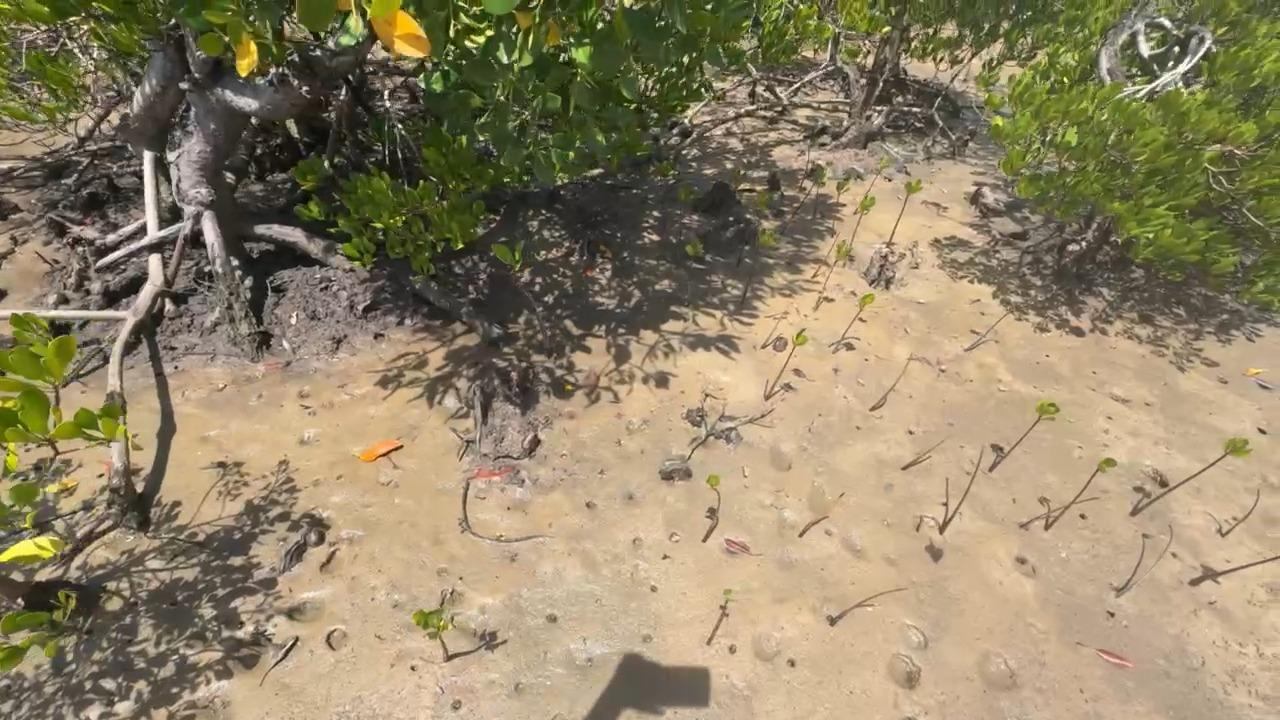Tree: (1131, 438, 1253, 518), (987, 401, 1061, 473), (1046, 457, 1118, 531), (939, 446, 982, 535), (765, 327, 808, 401), (829, 588, 909, 626), (812, 240, 854, 311), (740, 229, 778, 307), (1189, 555, 1280, 587), (885, 179, 924, 247), (832, 293, 875, 354), (869, 353, 913, 411), (1020, 497, 1101, 528), (963, 310, 1013, 352), (853, 162, 889, 216), (414, 608, 449, 663), (1222, 489, 1260, 537), (849, 196, 876, 250), (811, 232, 841, 278), (901, 440, 945, 471), (685, 238, 704, 307), (830, 180, 850, 238), (750, 193, 768, 254), (812, 168, 826, 222), (677, 184, 689, 244), (798, 516, 829, 537), (706, 474, 721, 515), (723, 588, 738, 609)
